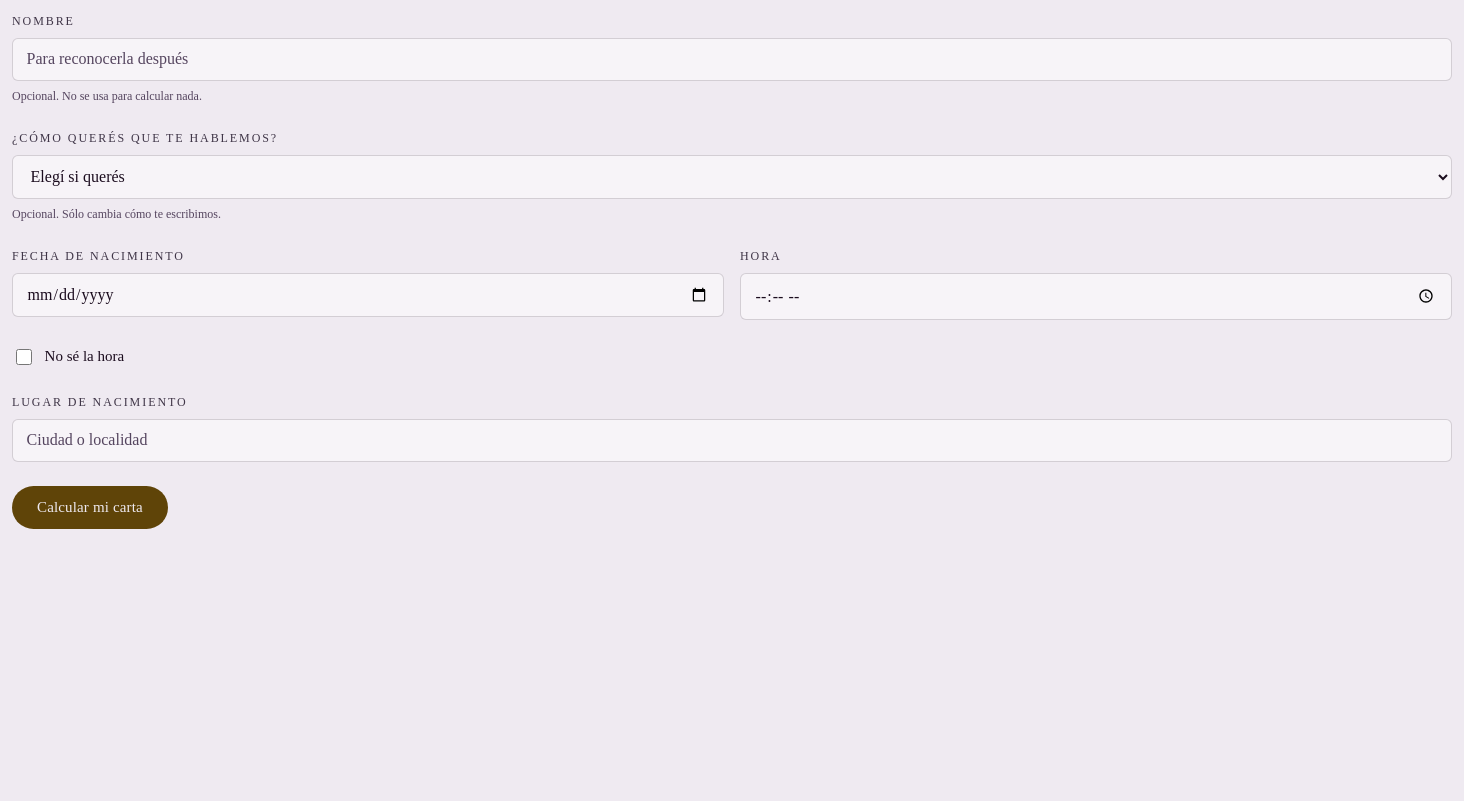
Scenario: comprar sin cuenta desde la vista previa › con 429 muestra el texto de error del pago y deja reintentar
Type "1976-05-31" into the date field labelled "Fecha de nacimiento" at (368, 295), box [12,273,724,318]
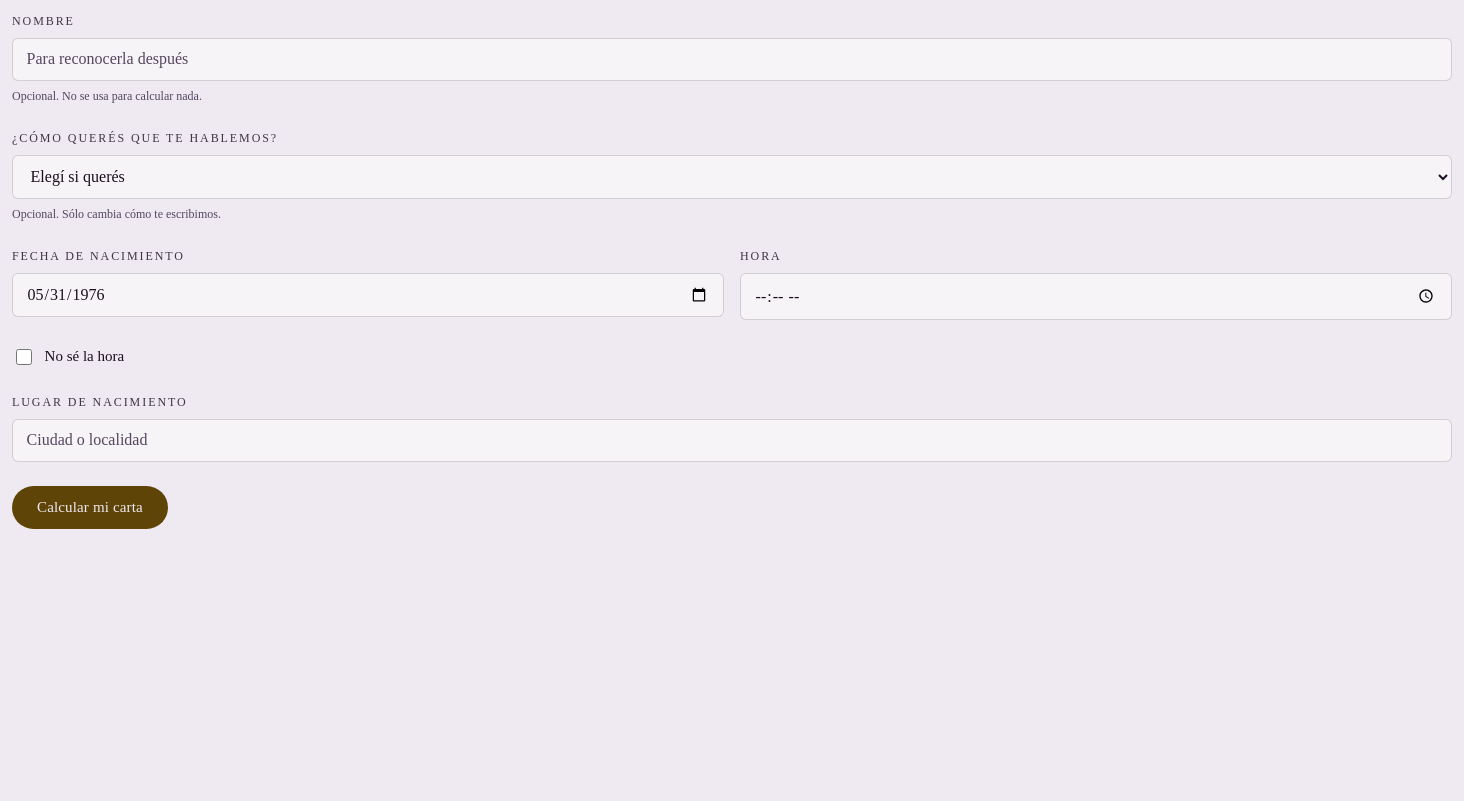
Type "rosario" into the field labelled "Lugar de nacimiento" at (732, 440), box [12,419,1452,462]
Wait 400 ms
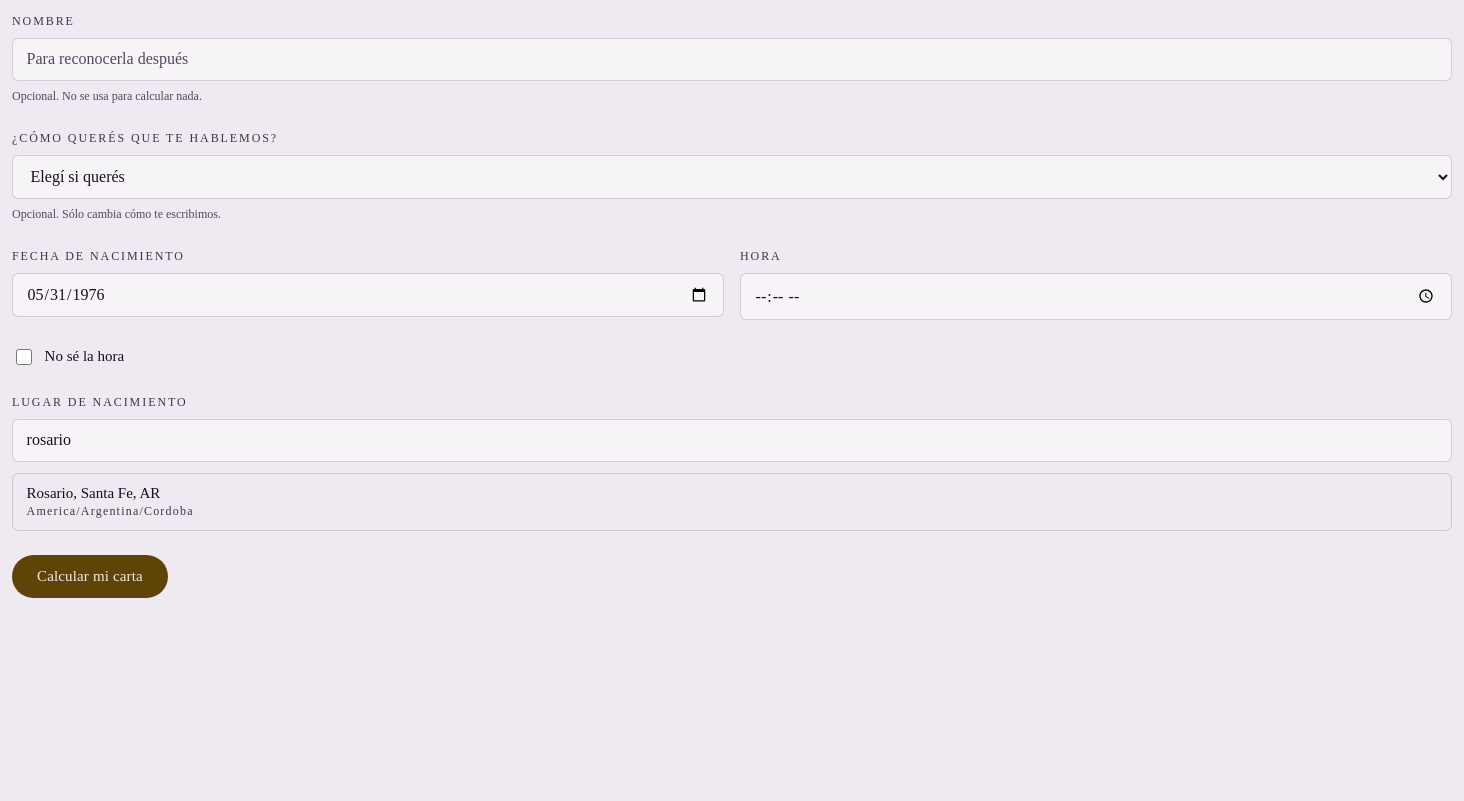
Click the button "Rosario, Santa Fe, AR America/Argentina/Cordoba" at (93, 493), box [13,474,1451,530]
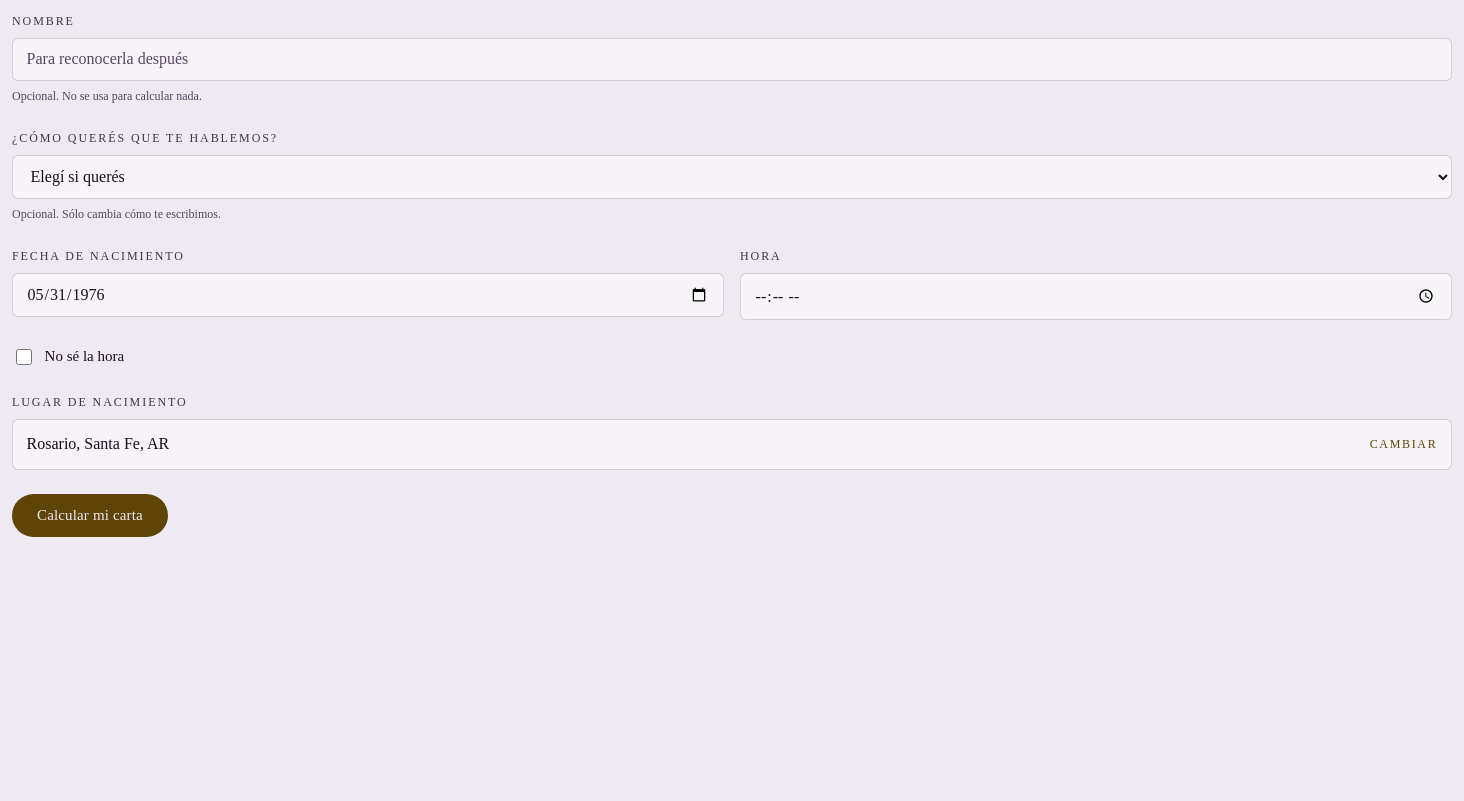
Click the button "Calcular mi carta" at (90, 516), box [12,494,168,537]
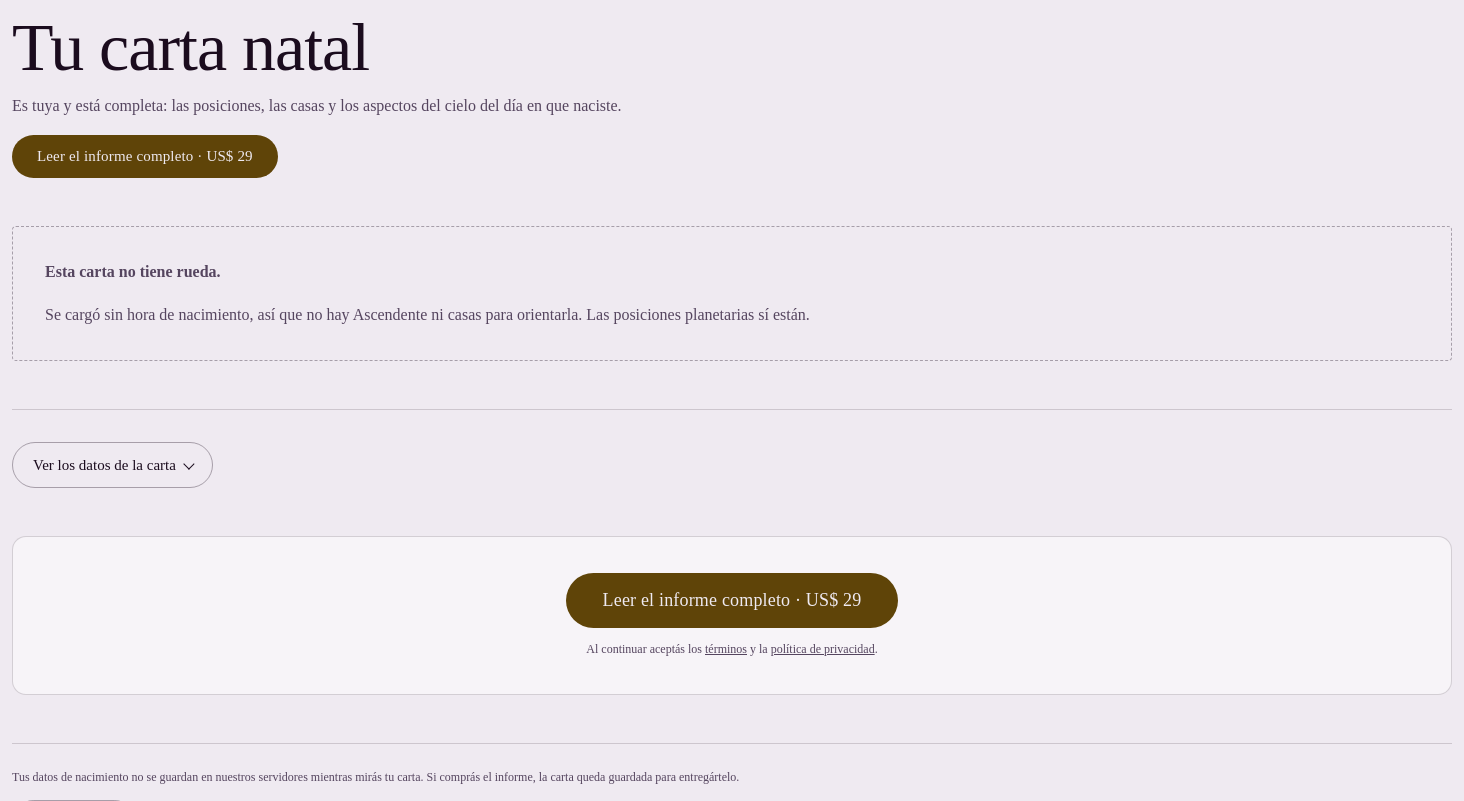
Click the button "Leer el informe completo · US$ 29" below "Tu carta natal" at (145, 157), box [12,135,278,178]
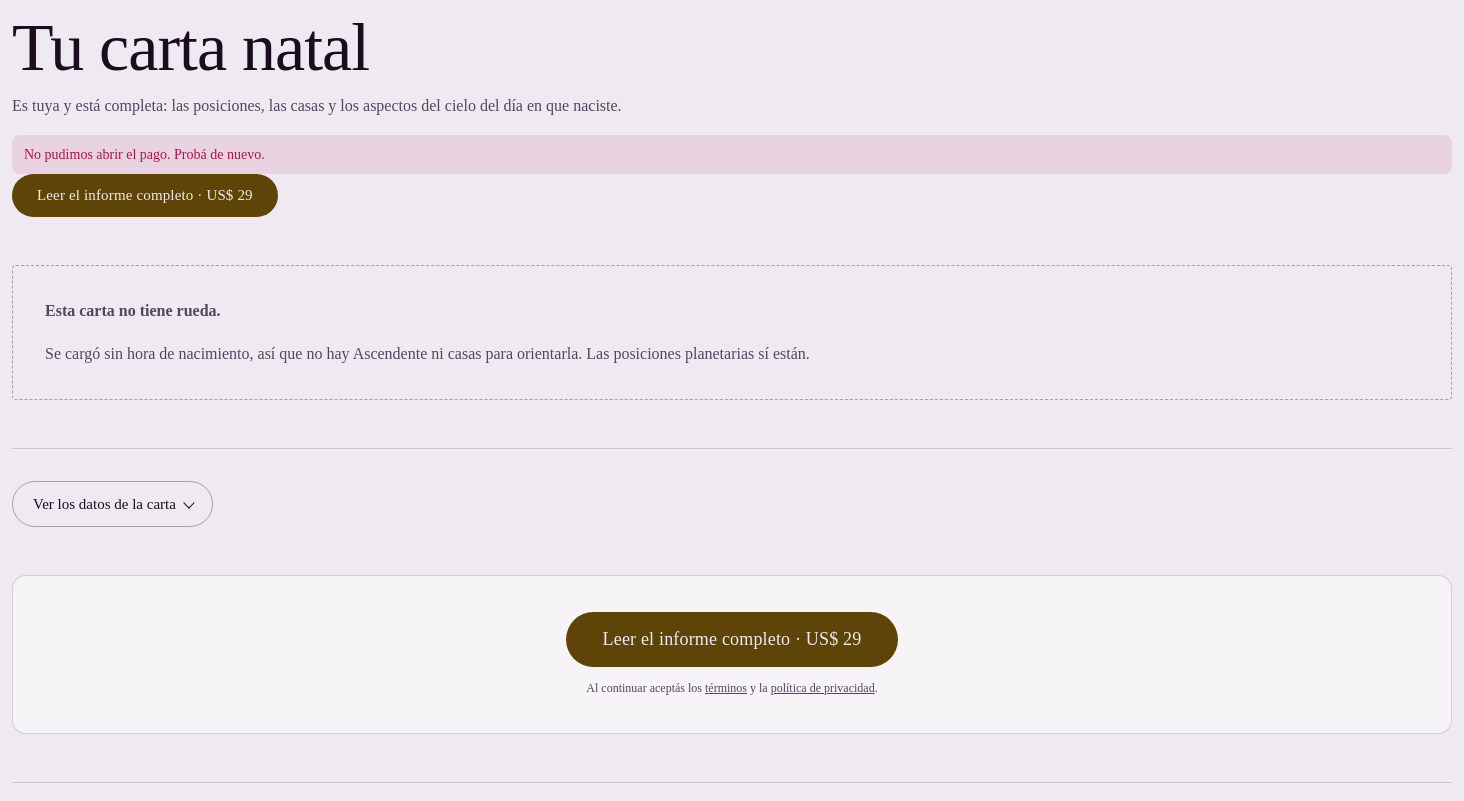
Now the button "Leer el informe completo · US$ 29" below "Tu carta natal" is enabled, box [12,174,278,218]
Now the message reads "No pudimos abrir el pago. Probá de nuevo.", box [24,147,265,162]
